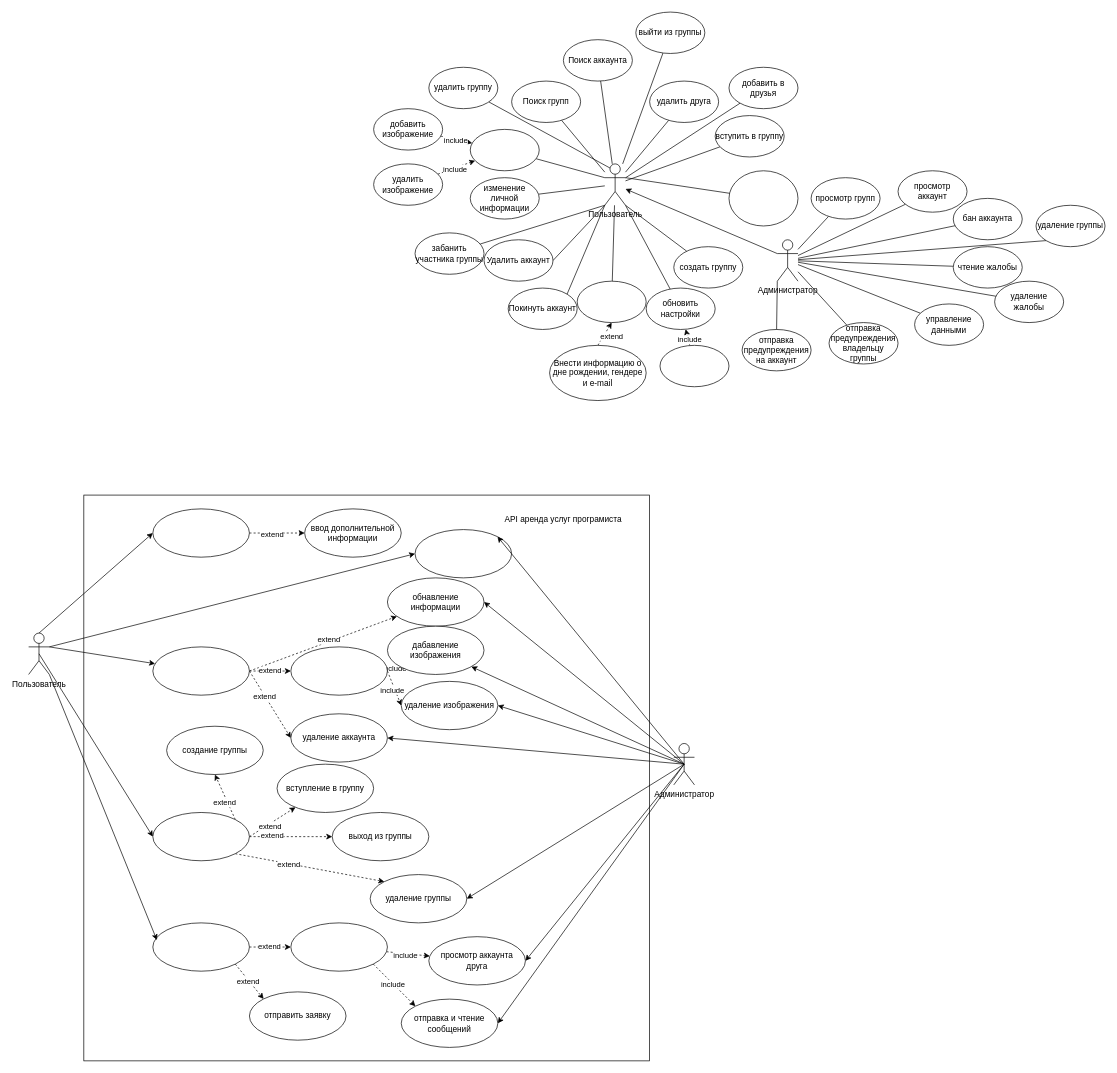
The diagram is 1117 pixels wide and 1073 high, and some of its shapes have lost their labels. Each missing label, with the centre of its shape:
"авторизация" belongs at point 463,553.
"изменить название группы" belongs at point 694,366.
"Измменение альбома" belongs at point 338,670.
"обновление изабражений" belongs at point 504,150.
"подать жалобу на чужлой аккаунт или группу" belongs at point 763,198.
"принять заявку" belongs at point 338,946.
"регистрация" belongs at point 200,532.
"Создать аккаунт" belongs at point 611,301.
"управление аккаунтом" belongs at point 200,670.
"управление группами" belongs at point 200,836.
"управление списком друзей" belongs at point 200,946.
